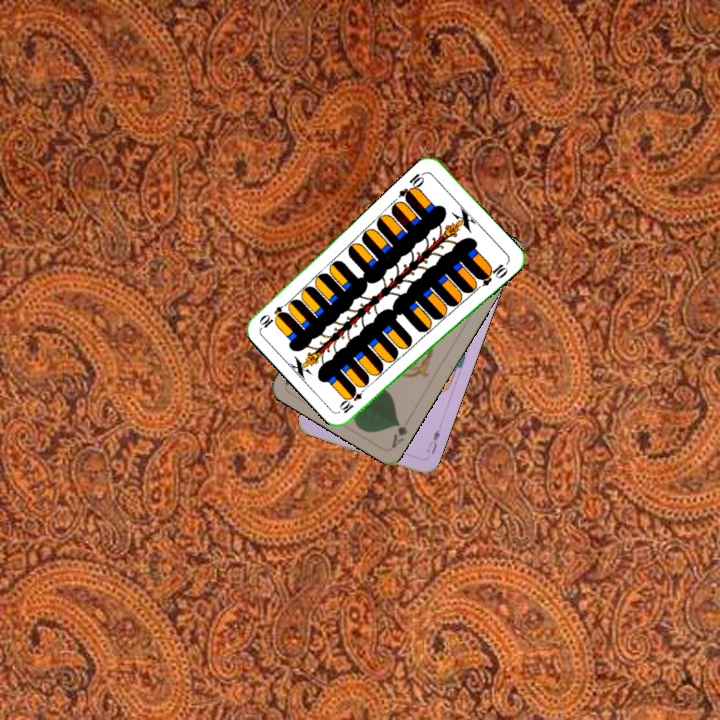E10: (336, 382, 370, 416), (395, 168, 428, 203)
EU: (423, 426, 443, 457)
GA: (388, 418, 410, 451)
